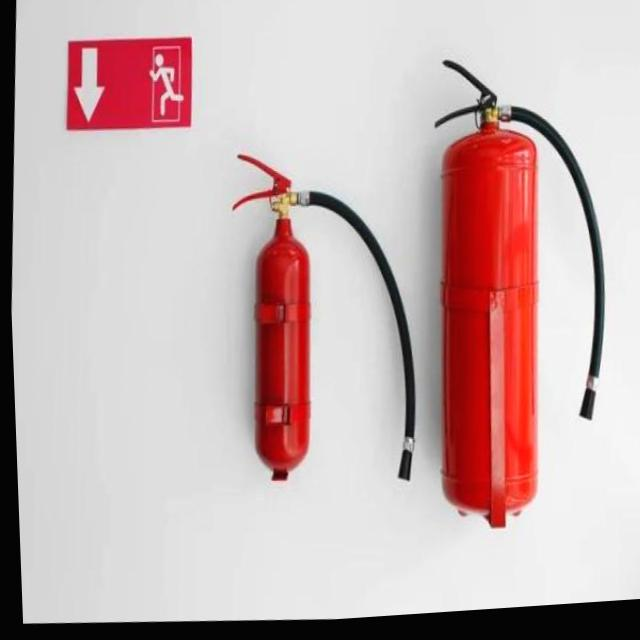FireExtinguisher: (405, 51, 625, 544), (209, 139, 432, 504)
